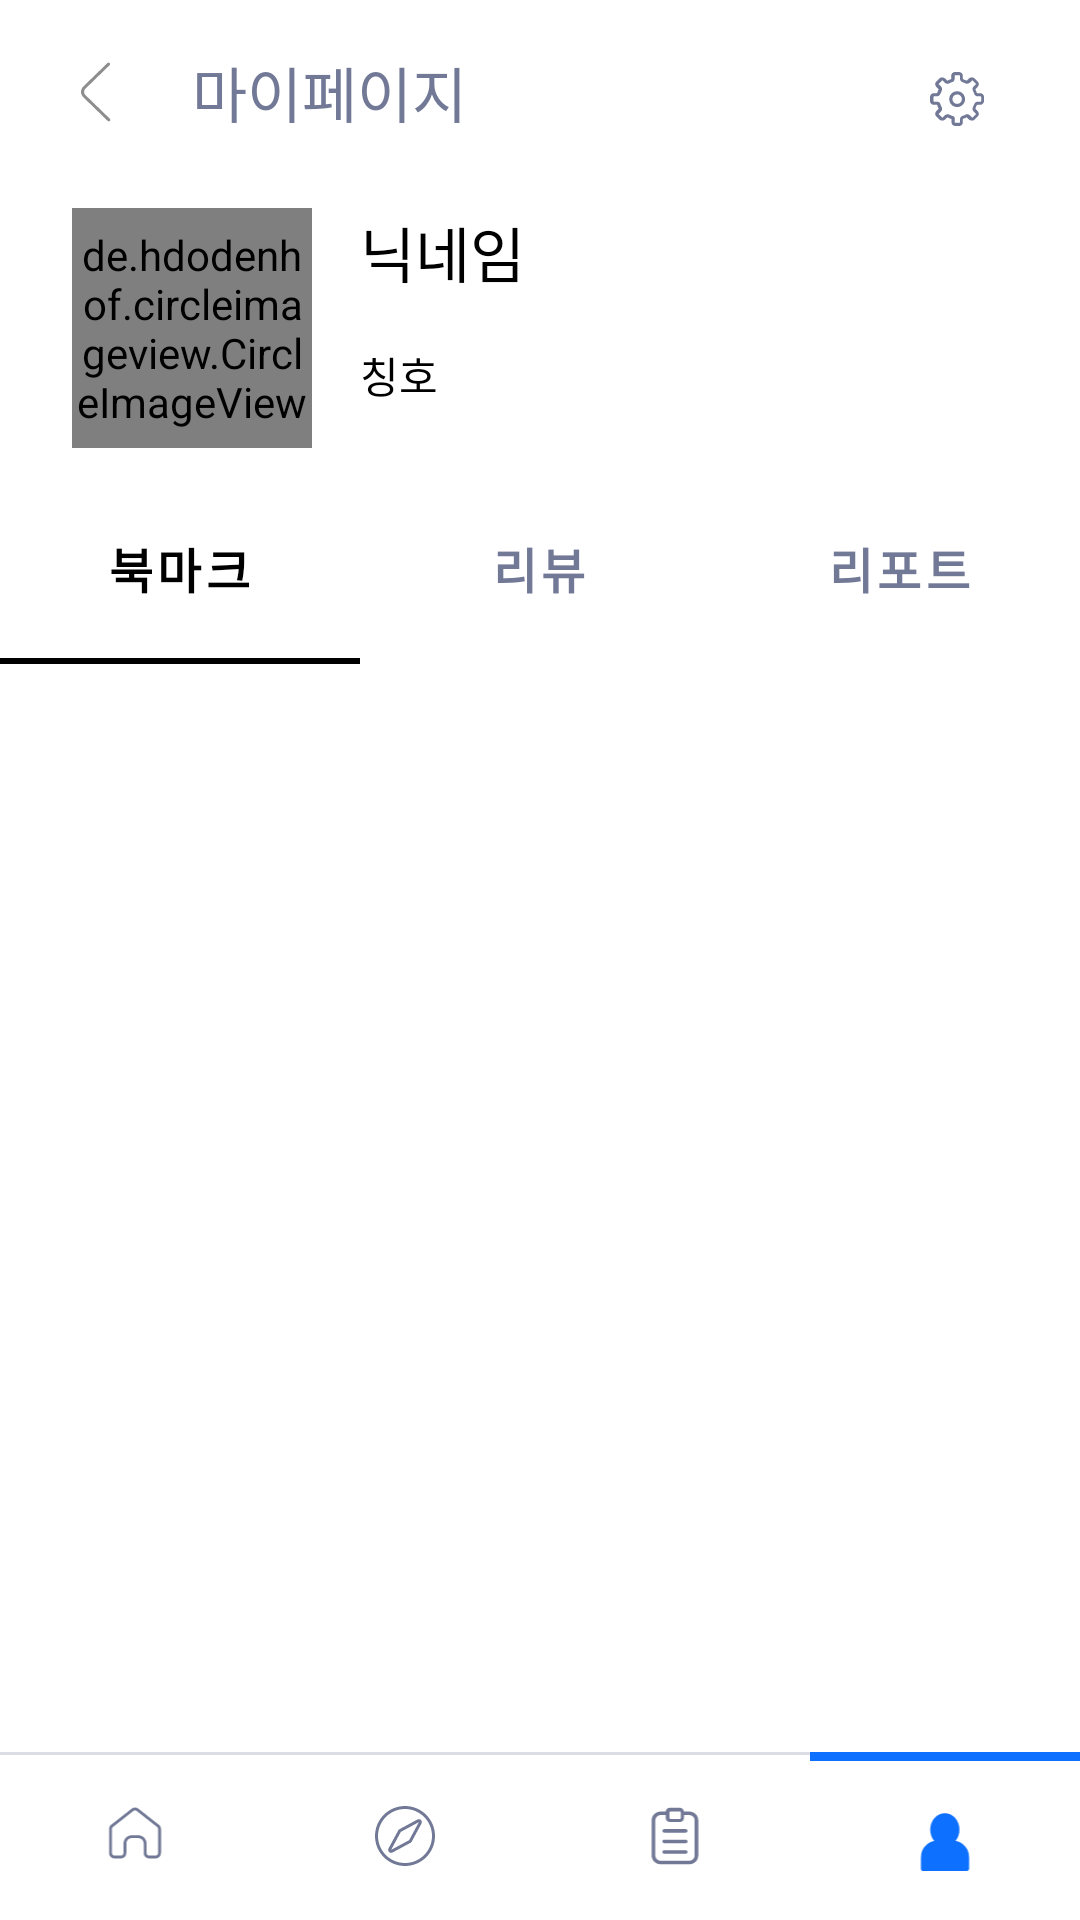

Icons on this 1080px×1920px Android screen, each with the point to tap as (x=x, y=y):
backbutton: (x=95, y=92)
home non: (x=135, y=1833)
report none: (x=675, y=1836)
route non: (x=405, y=1836)
setting: (x=957, y=99)
